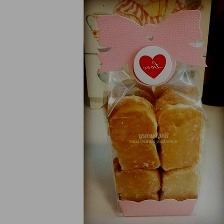snack: (89, 4, 215, 221)
